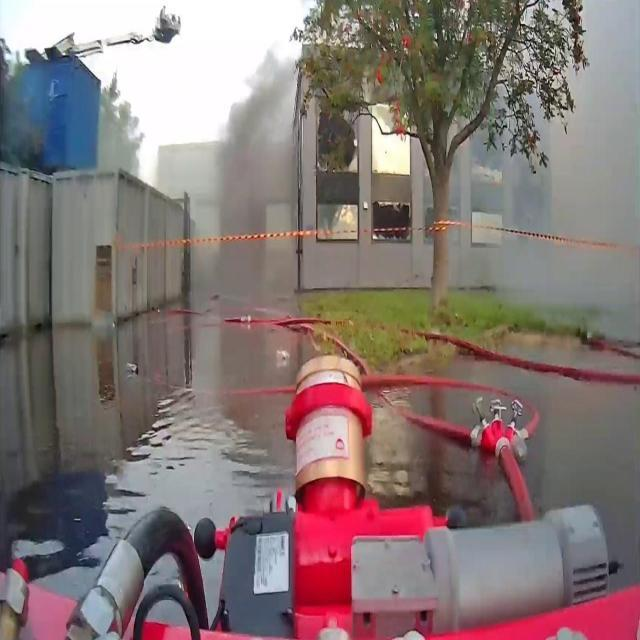Fire: (372, 104, 411, 174), (335, 204, 356, 227)
Smoke: (479, 0, 640, 337), (212, 40, 301, 292)
